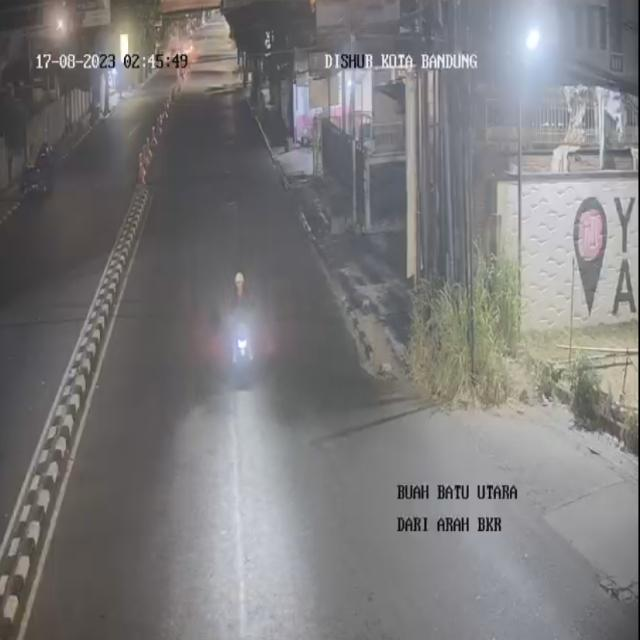motorcycle: (216, 264, 266, 391)
